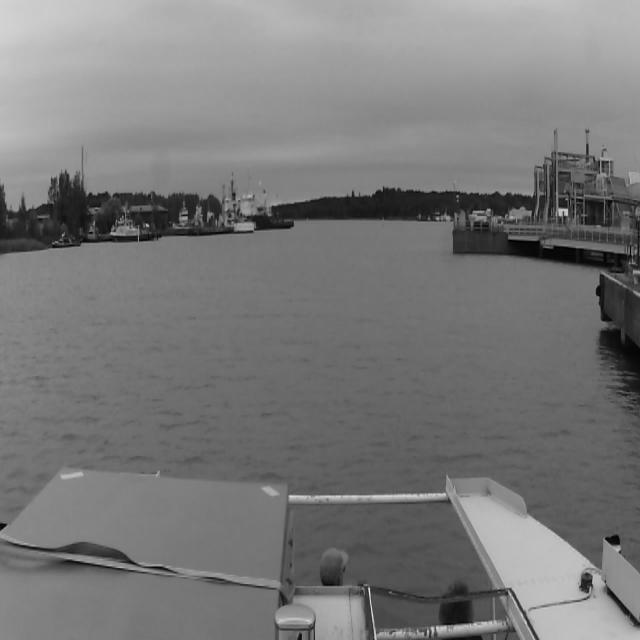ship: (249, 186, 291, 232)
